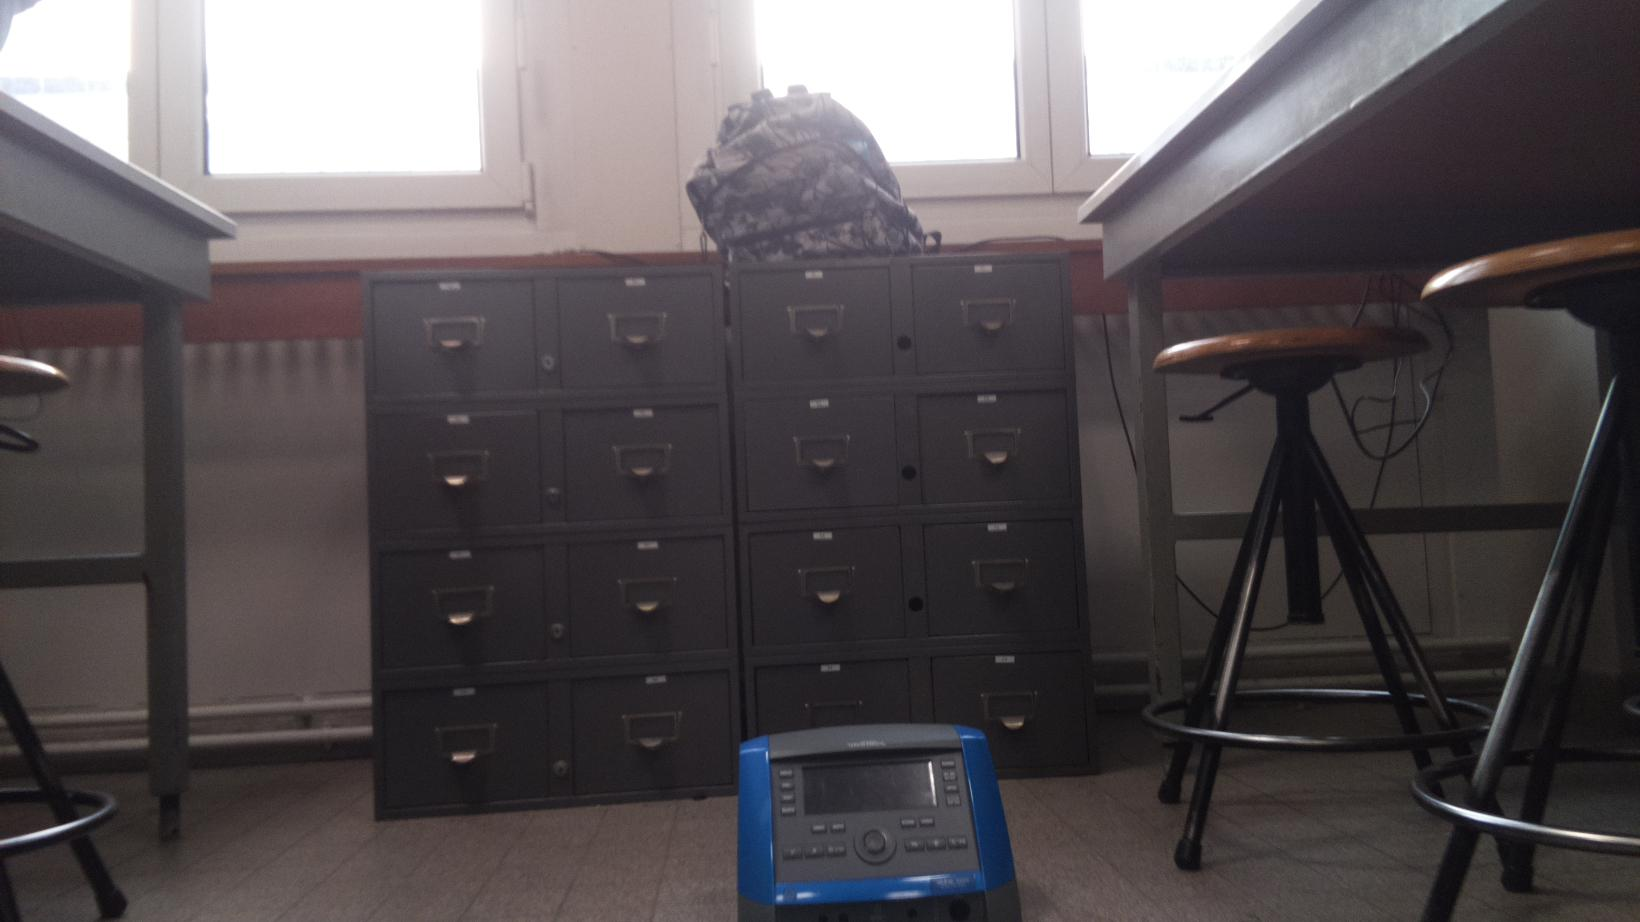big: (695, 93, 913, 256)
medium: (739, 722, 1018, 922)
